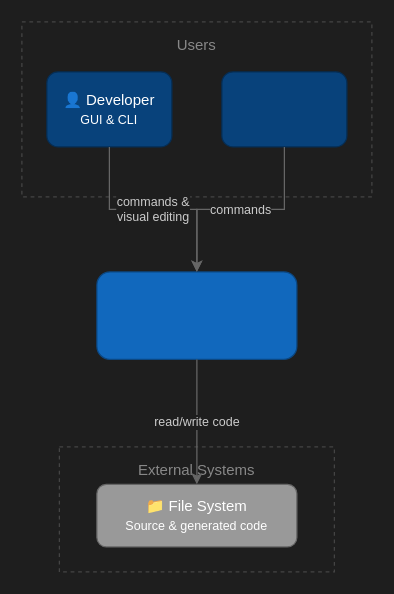
Some shapes in this 394 by 594 pixel diagram are drawn without their labels. The shapes that lost their labels are listed below. From the top down, each one's centre as x and y in pixels, then its label:
At (x=284, y=109): "🤖 AI Agent CLI".
At (x=196, y=315): "🔷 cyrus-code Component architecture tool".
